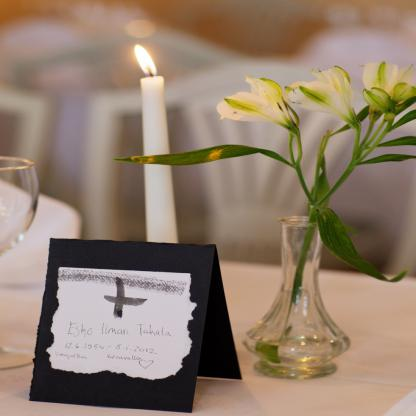vase: (242, 215, 350, 380)
